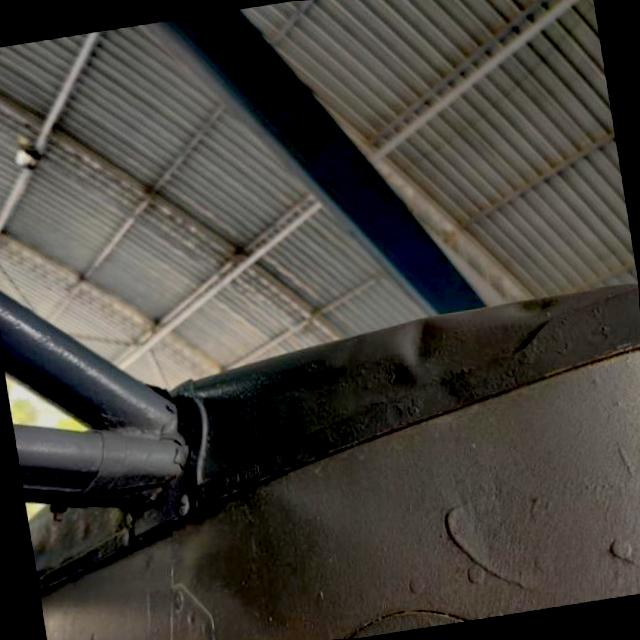dent: (381, 312, 458, 380), (501, 295, 564, 325)
